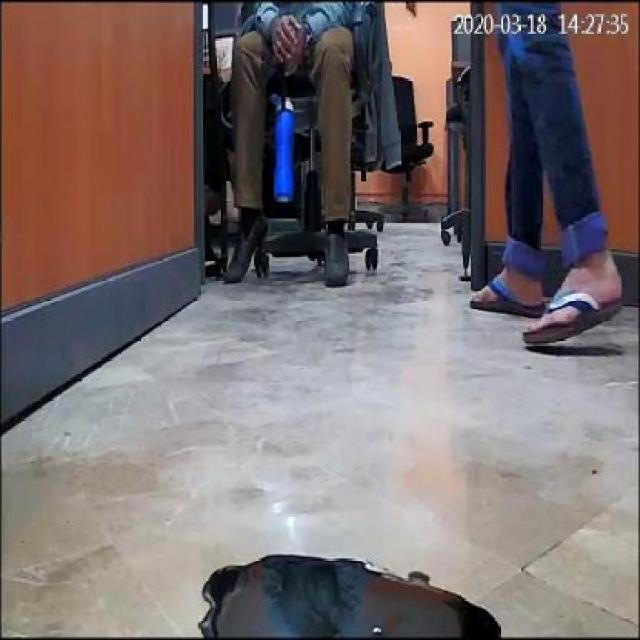spill: (195, 552, 500, 634)
